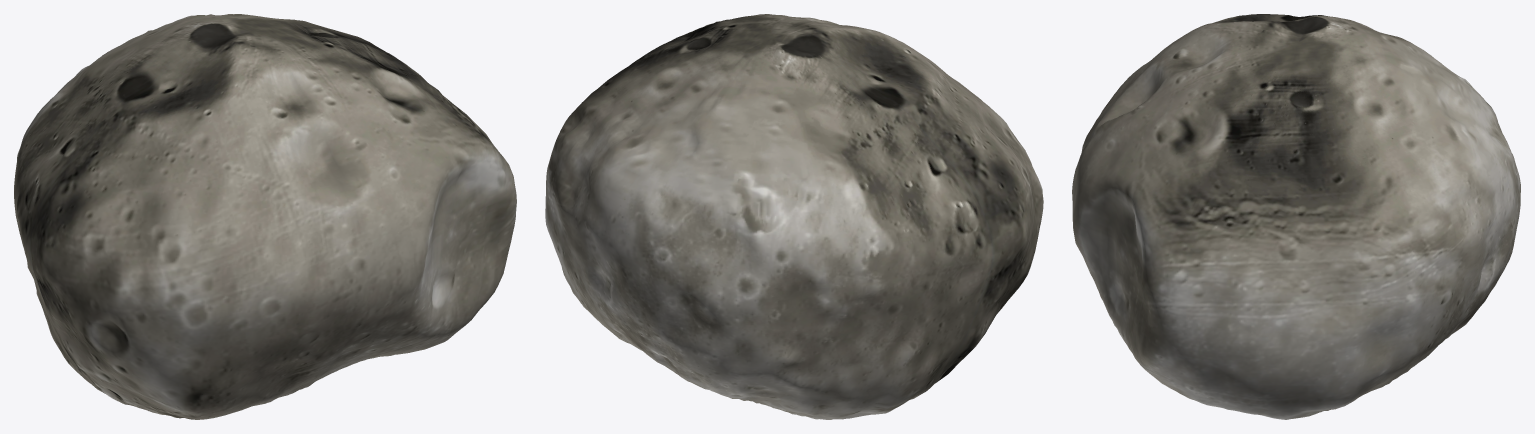
Rendered from phobos.glb.
3 renders of one model, left to right at view 1: azimuth 30°, elevation 25°; view 2: azimuth 150°, elevation 25°; view 3: azimuth 270°, elevation 25°, orthographic. The views are drawn at different scales.
Visible parts, largest first — view 1: phobos; view 2: phobos; view 3: phobos.
Part boxes in pixels (<box>): phobos: <box>14,14,516,419</box>; phobos: <box>545,14,1043,419</box>; phobos: <box>1072,14,1520,419</box>.
Size of the model in its own units: 27.04 by 20.52 by 24.37.
1 material, 1 textured.
